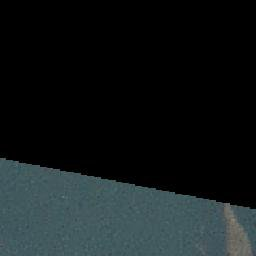debris: (224, 225, 250, 247), (223, 202, 236, 222)
